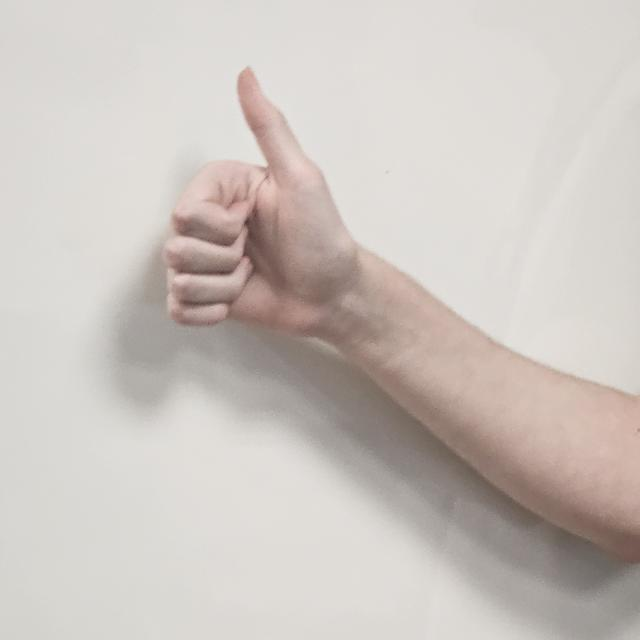Start: (166, 65, 367, 359)
